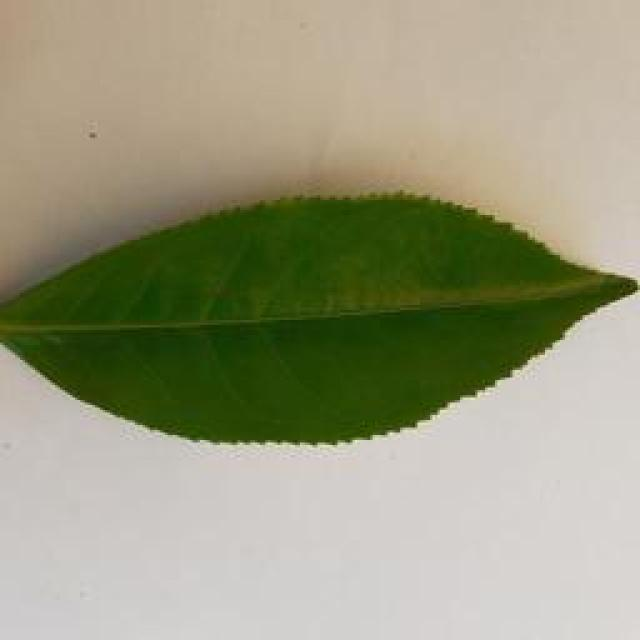Healthy: (0, 190, 634, 457)
